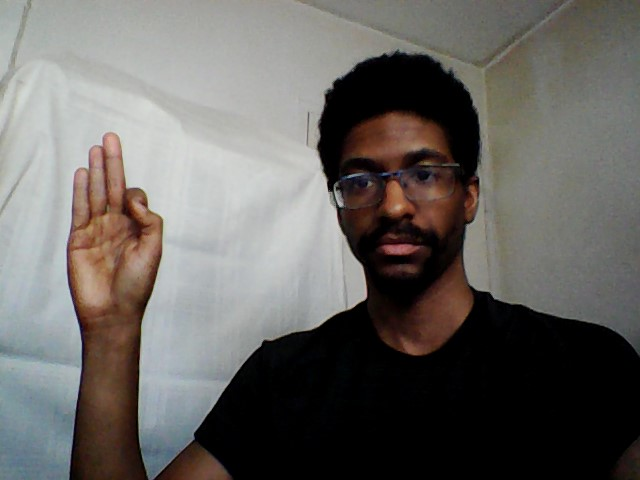f: (61, 127, 167, 333)
